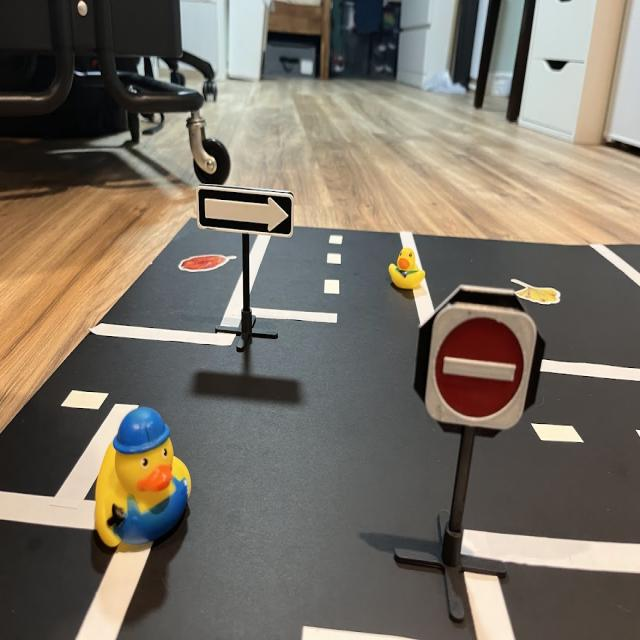duck_regular: (386, 245, 427, 294)
duck_specialty: (95, 408, 192, 555)
sign_noentry: (423, 309, 537, 431)
sign_oneway_right: (197, 189, 294, 240)
